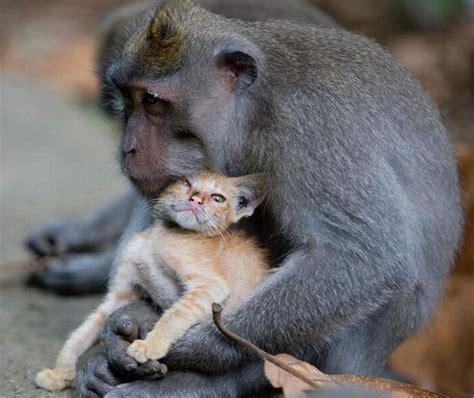cat: (36, 173, 265, 389)
monkey: (28, 1, 464, 398)
